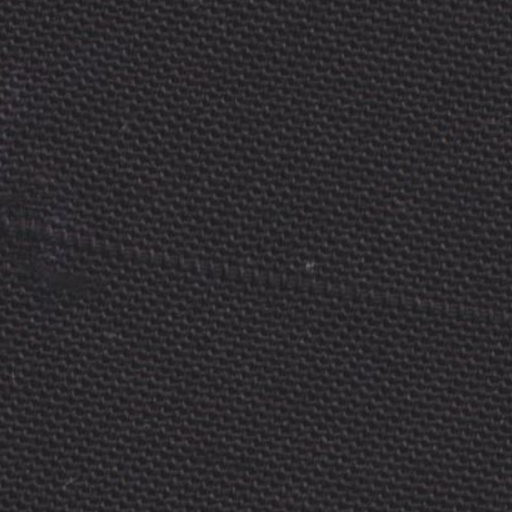DaiSha: (40, 203, 491, 336)
